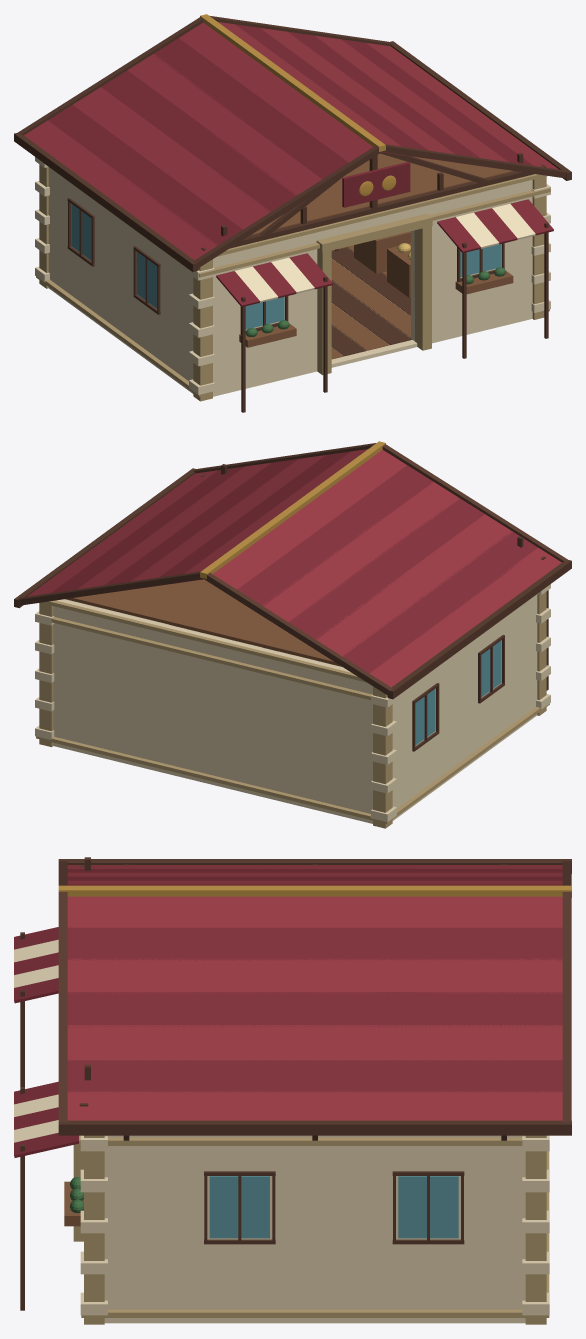
The model's file is Market.glb.
The picture shows the model from 3 angles, top to bottom: view 1: azimuth 30°, elevation 25°; view 2: azimuth 150°, elevation 25°; view 3: azimuth 270°, elevation 25°; orthographic projection. The views are drawn at different scales.
Visible parts, largest first — view 1: Market_002_Side, Market_040_FrontWing, Market_003_FrontWing, Market_097_RoofTileBand, Market_096_RoofTileBand, Market_094_RoofTileBand, Market_095_RoofTileBand, Market_098_RoofTileBand, Market_093_RoofTileBand, Market_099_RoofTileBand, Market_124_Ceiling, Market_110_RoofTileBand (+55 smaller); view 2: Market_001_Rear, Market_002_Side, Market_124_Ceiling, Market_097_RoofTileBand, Market_098_RoofTileBand, Market_096_RoofTileBand, Market_095_RoofTileBand, Market_094_RoofTileBand, Market_093_RoofTileBand, Market_099_RoofTileBand, Market_108_RoofTileBand, Market_109_RoofTileBand (+22 smaller); view 3: Market_039_Side, Market_110_RoofTileBand, Market_109_RoofTileBand, Market_108_RoofTileBand, Market_107_RoofTileBand, Market_111_RoofTileBand, Market_106_RoofTileBand, Market_112_RoofTileBand, Market_115_Eave, Market_119_Ridge, Market_080_SideCourse, Market_060_SideWindow (+25 smaller).
Part boxes in pixels (x1,y1,x2,y2): Market_002_Side: [48, 167, 193, 393]; Market_040_FrontWing: [411, 180, 531, 343]; Market_003_FrontWing: [213, 230, 326, 396]; Market_097_RoofTileBand: [73, 87, 270, 229]; Market_096_RoofTileBand: [101, 70, 296, 211]; Market_094_RoofTileBand: [153, 38, 348, 178]; Market_095_RoofTileBand: [127, 54, 322, 195]; Market_098_RoofTileBand: [48, 105, 242, 245]; Market_093_RoofTileBand: [179, 22, 372, 162]; Market_099_RoofTileBand: [24, 120, 217, 260]; Market_124_Ceiling: [250, 153, 514, 235]; Market_110_RoofTileBand: [315, 35, 507, 167]; Market_001_Rear: [53, 599, 372, 822]; Market_002_Side: [392, 594, 537, 819]; Market_124_Ceiling: [65, 579, 341, 666]; Market_097_RoofTileBand: [315, 514, 512, 656]; Market_098_RoofTileBand: [343, 531, 537, 673]; Market_096_RoofTileBand: [288, 498, 484, 639]; Market_095_RoofTileBand: [262, 482, 459, 622]; Market_094_RoofTileBand: [237, 465, 433, 606]; Market_093_RoofTileBand: [213, 449, 406, 589]; Market_099_RoofTileBand: [369, 547, 561, 687]; Market_108_RoofTileBand: [127, 455, 325, 590]; Market_109_RoofTileBand: [101, 459, 298, 593]; Market_039_Side: [104, 1135, 525, 1323]; Market_110_RoofTileBand: [67, 1025, 562, 1060]; Market_109_RoofTileBand: [67, 992, 562, 1027]; Market_108_RoofTileBand: [67, 958, 562, 993]; Market_107_RoofTileBand: [67, 927, 562, 960]; Market_111_RoofTileBand: [67, 1058, 562, 1093]; Market_106_RoofTileBand: [67, 896, 562, 927]; Market_112_RoofTileBand: [67, 1091, 562, 1120]; Market_115_Eave: [58, 1120, 571, 1135]; Market_119_Ridge: [58, 885, 571, 897]; Market_080_SideCourse: [81, 1309, 548, 1317]; Market_060_SideWindow: [209, 1176, 269, 1238].
Size of the model in its own units: 33.28 by 18.44 by 29.56.
